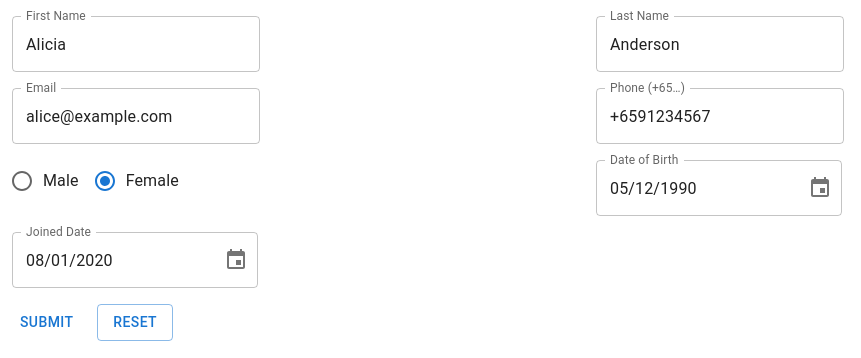
EmployeeForm (unit) › Reset restores the initial values
Type "Z" into the field with test id "first-name" at point(136, 44), box [12,16,260,72]
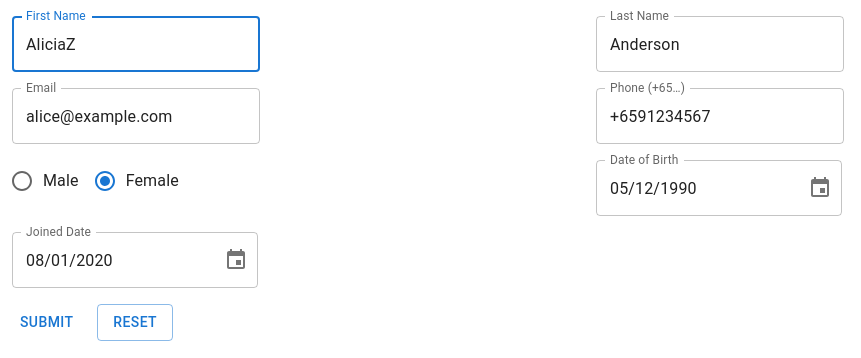
Click the button with test id "reset" at point(135, 322), box [97,304,173,340]
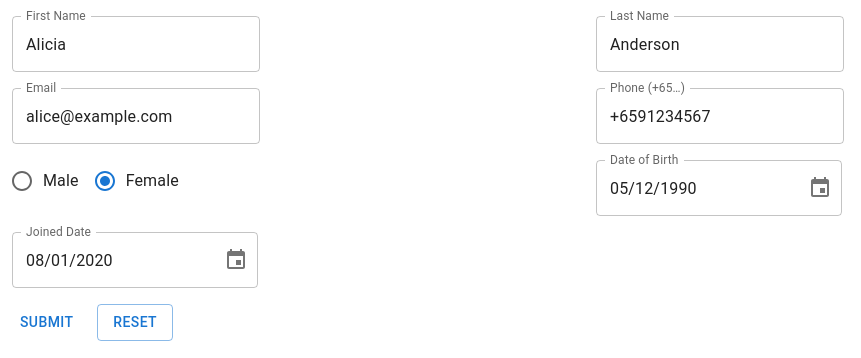
Result: the field with test id "first-name" holds "Alicia" at [12,16,260,72]
